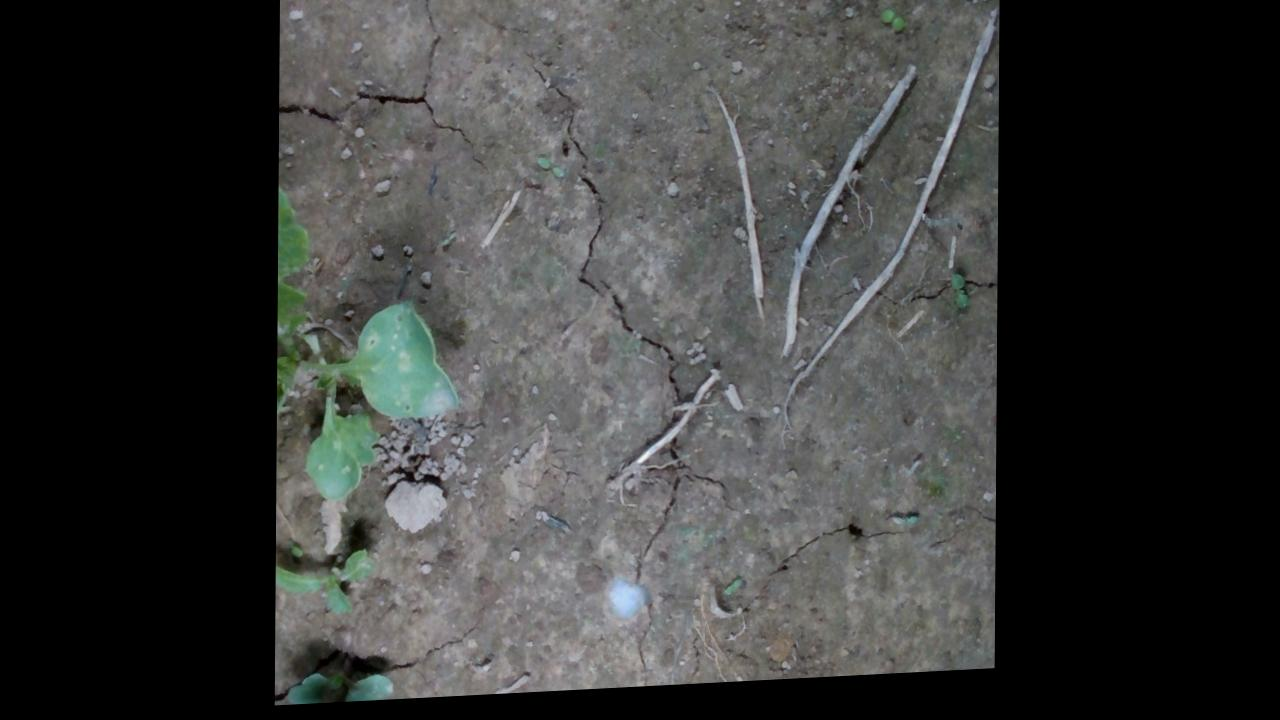weed: (948, 282, 970, 321), (534, 162, 565, 187), (877, 17, 904, 43), (945, 0, 986, 13)
